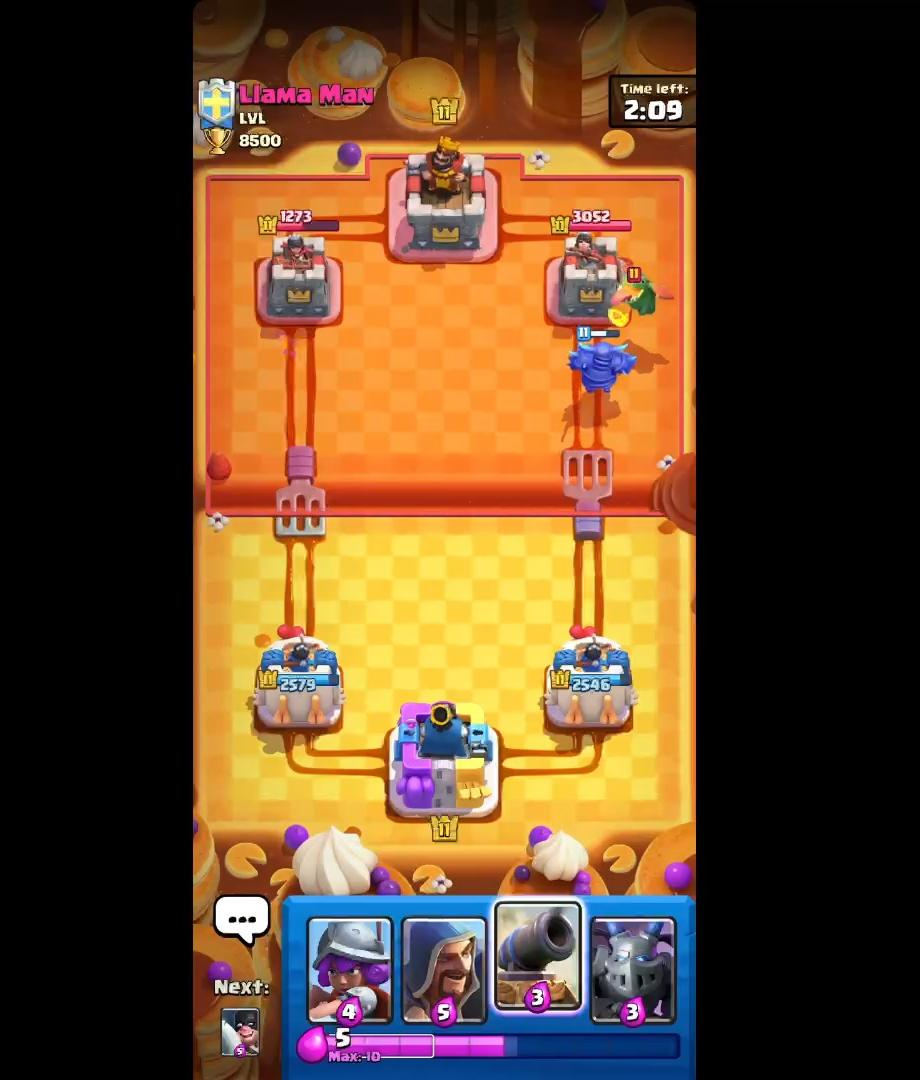Baby Dragon: (610, 245, 685, 348)
